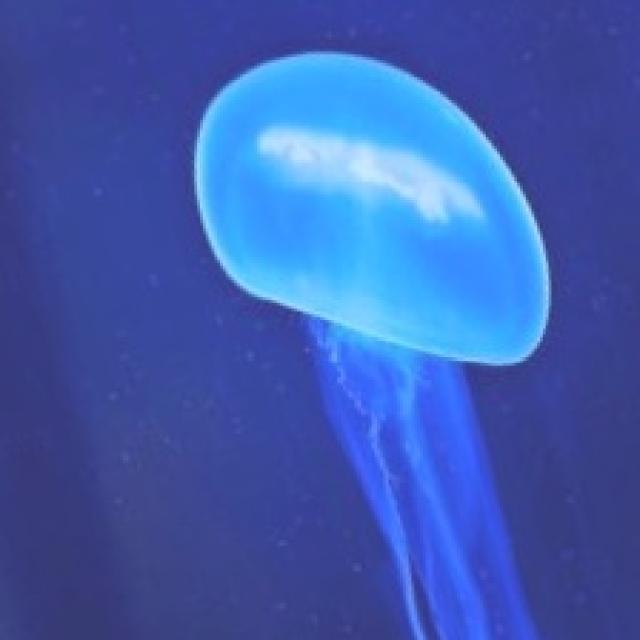Human: (189, 46, 560, 637)
